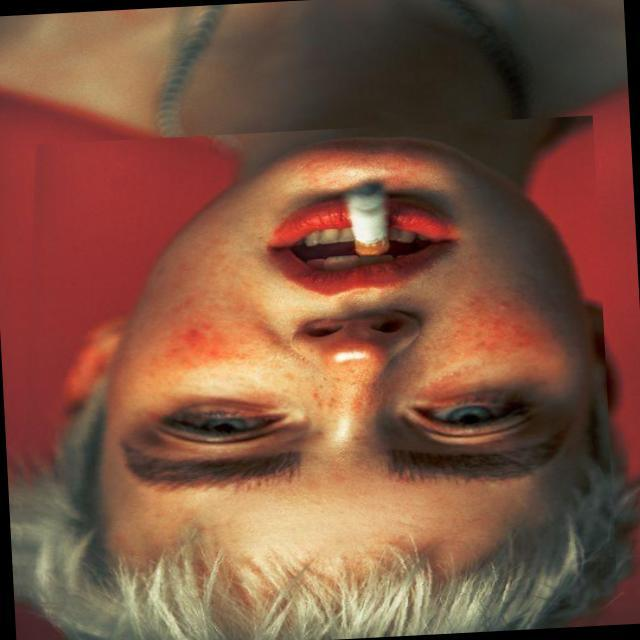cigarette: (296, 178, 373, 272)
